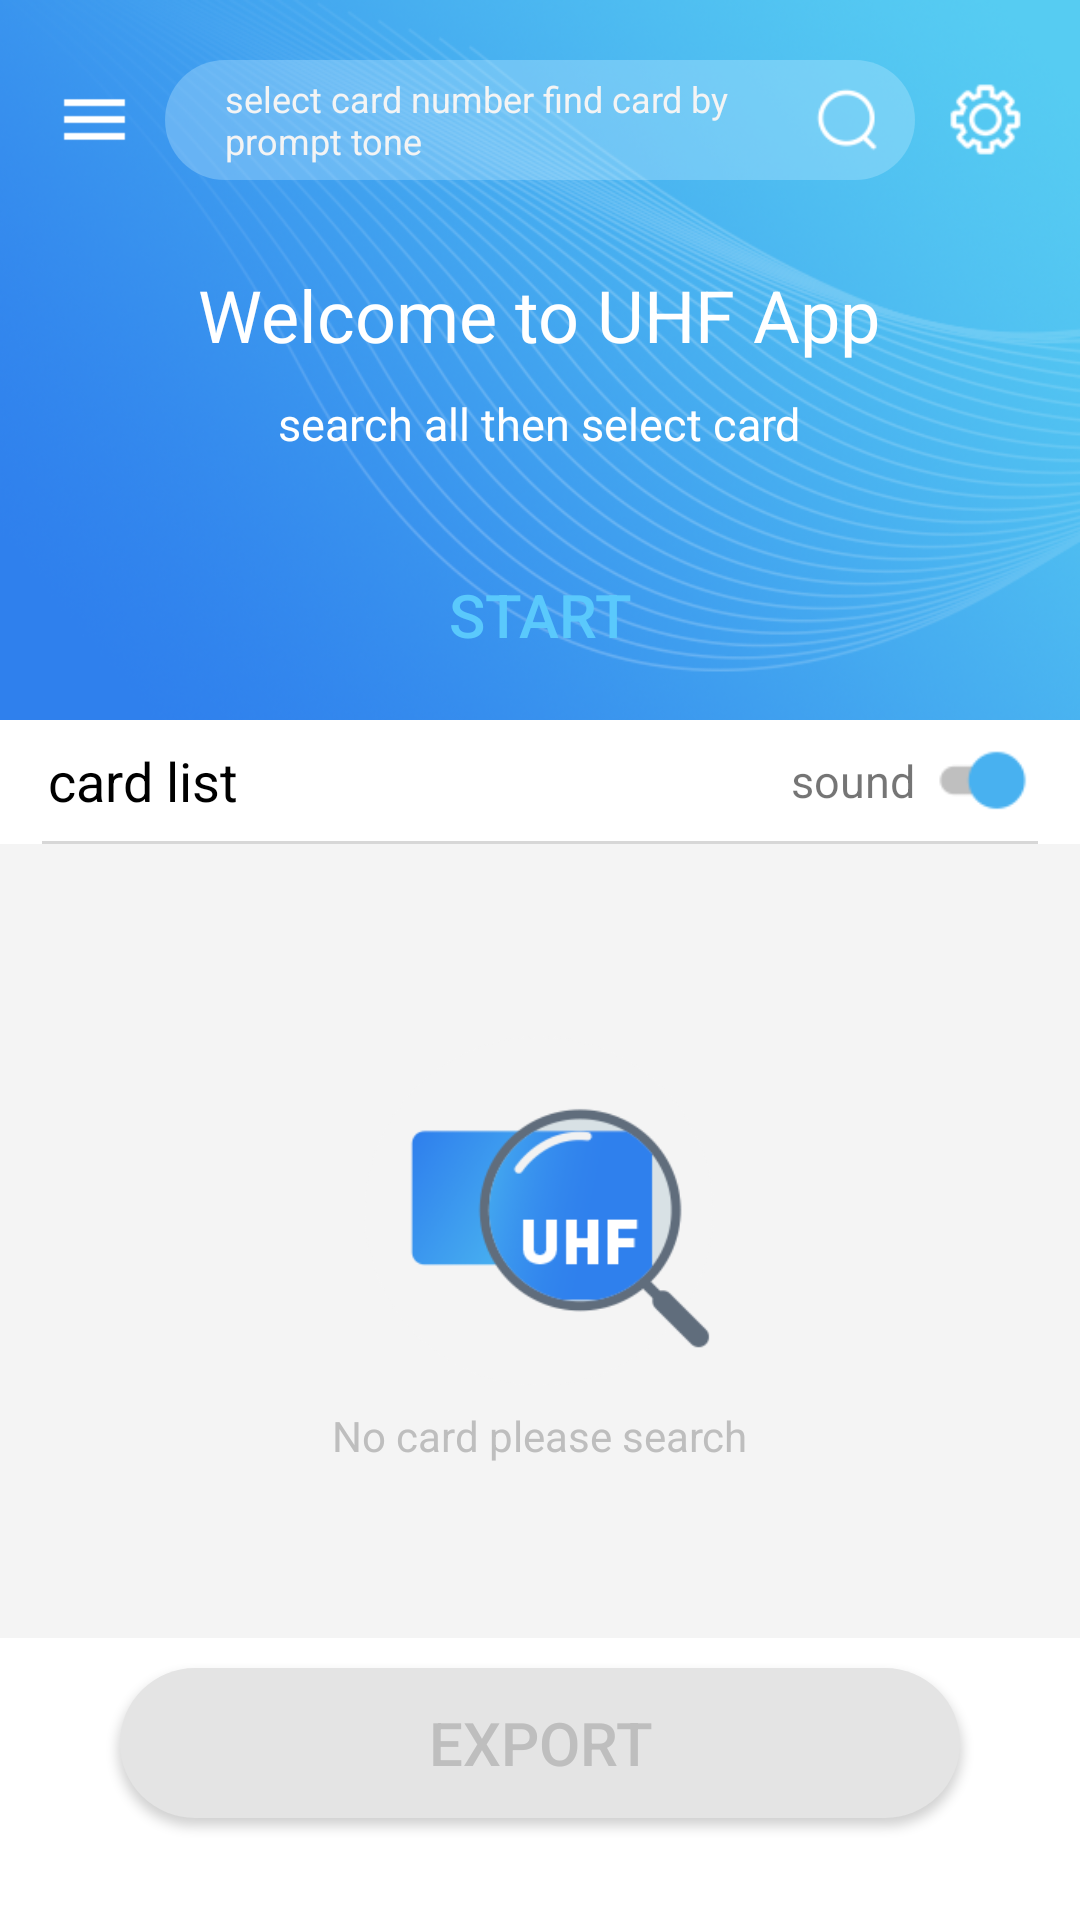

Named icons in this screenshot (1080px x 1920px) and their bounding boxes, (x1, y1, x2, y2):
menu: (63, 99, 126, 140)
search: (817, 89, 877, 150)
set: (950, 84, 1021, 155)
